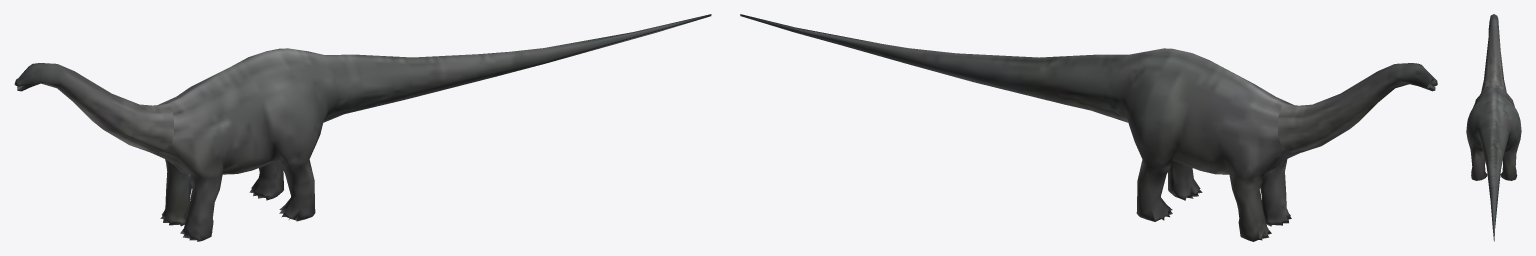
Rendered from nature-apatosaurus.glb.
The picture shows the model from 3 angles, left to right: view 1: azimuth 30°, elevation 25°; view 2: azimuth 150°, elevation 25°; view 3: azimuth 270°, elevation 25°; orthographic projection. The views are drawn at different scales.
Parts seen in each view (by area): view 1: Animal; view 2: Animal; view 3: Animal.
Boxes of the visible parts, x1,y1,x2,y2 form: Animal: (14,14,711,241); Animal: (740,14,1437,241); Animal: (1466,14,1521,241).
Size of the model in its own units: 3.2 by 0.8814 by 0.4317.
Materials: 1 (1 with a texture image).
